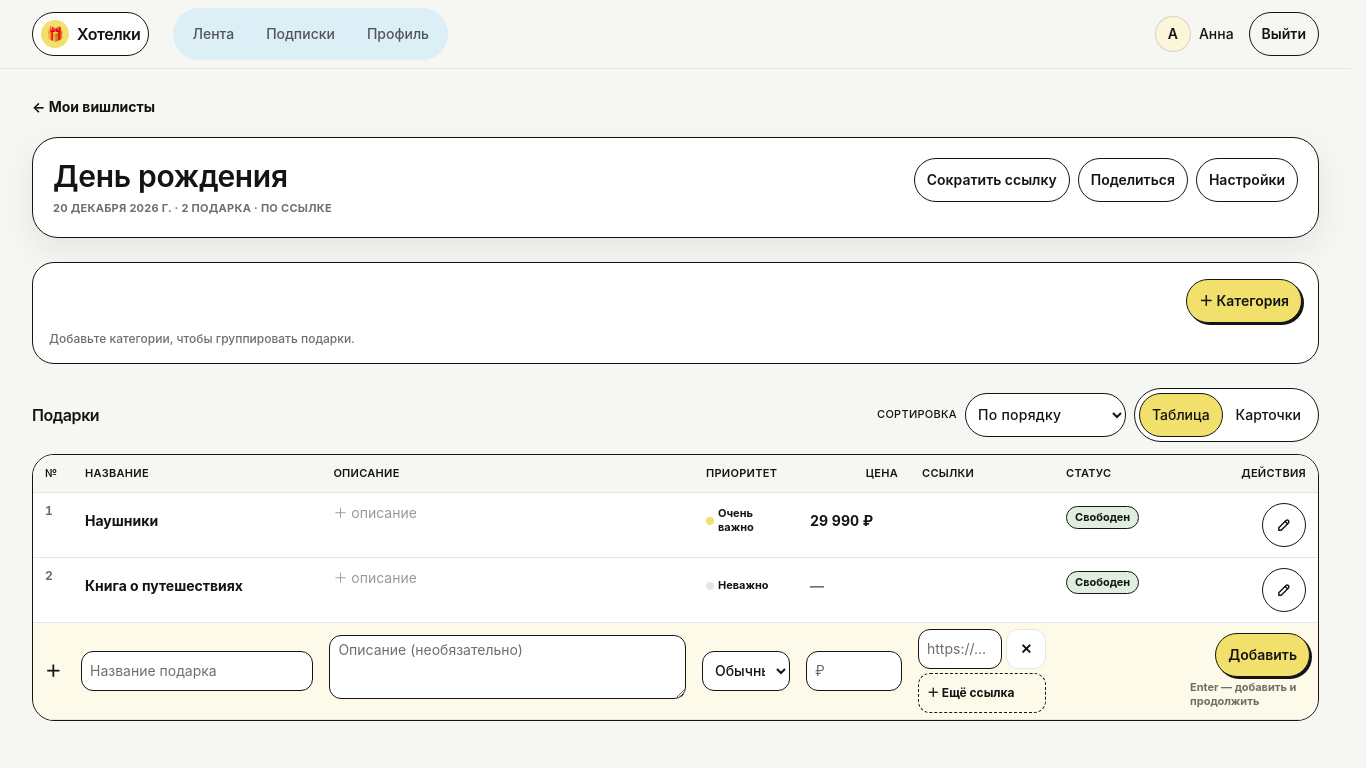
Test: переключатель вида подарков › карточки раскладываются в сетку 1/2/3/4 колонки
Expected: the text "Наушники" is shown, [85,511,158,531]
Click the button "Карточки" at (1268, 414), box [1223,392,1314,436]
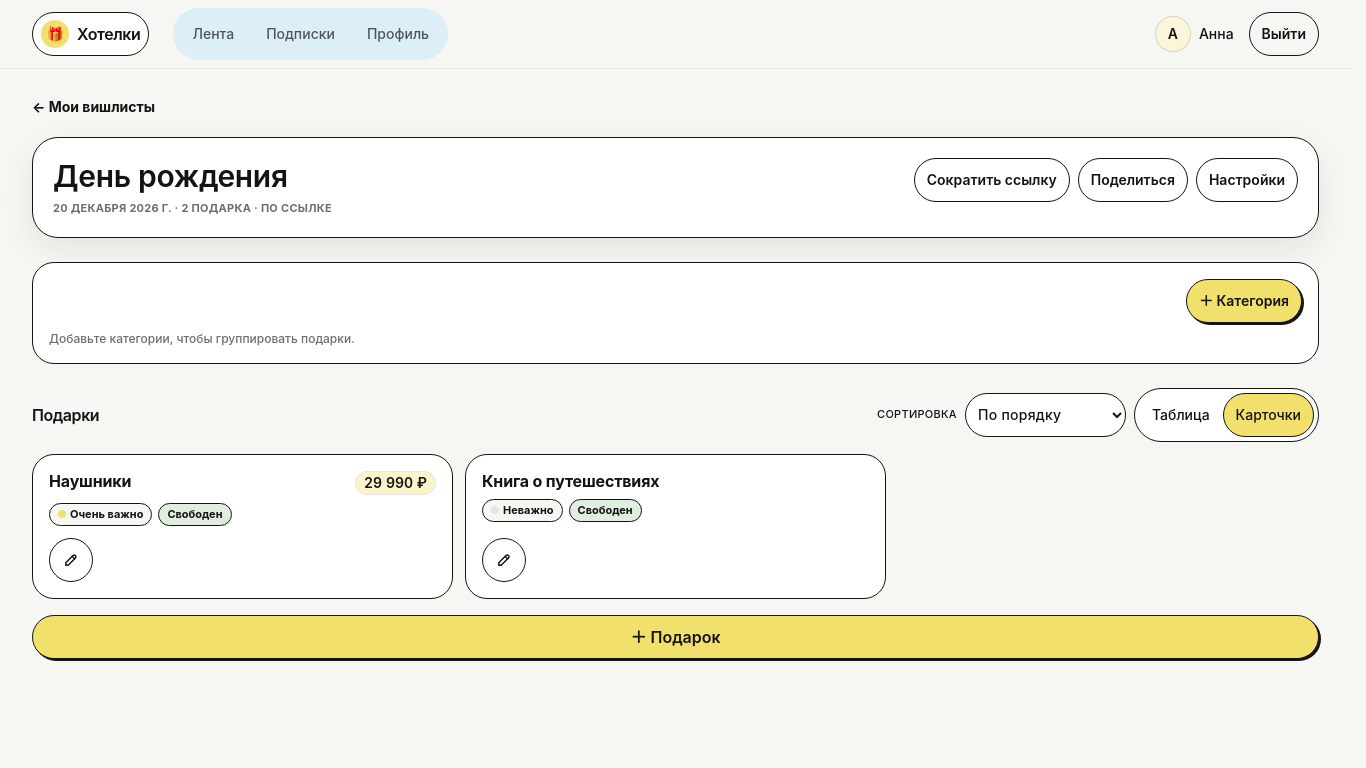
Result: the element that starts with "Наушники" is shown at [32,454,886,599]
